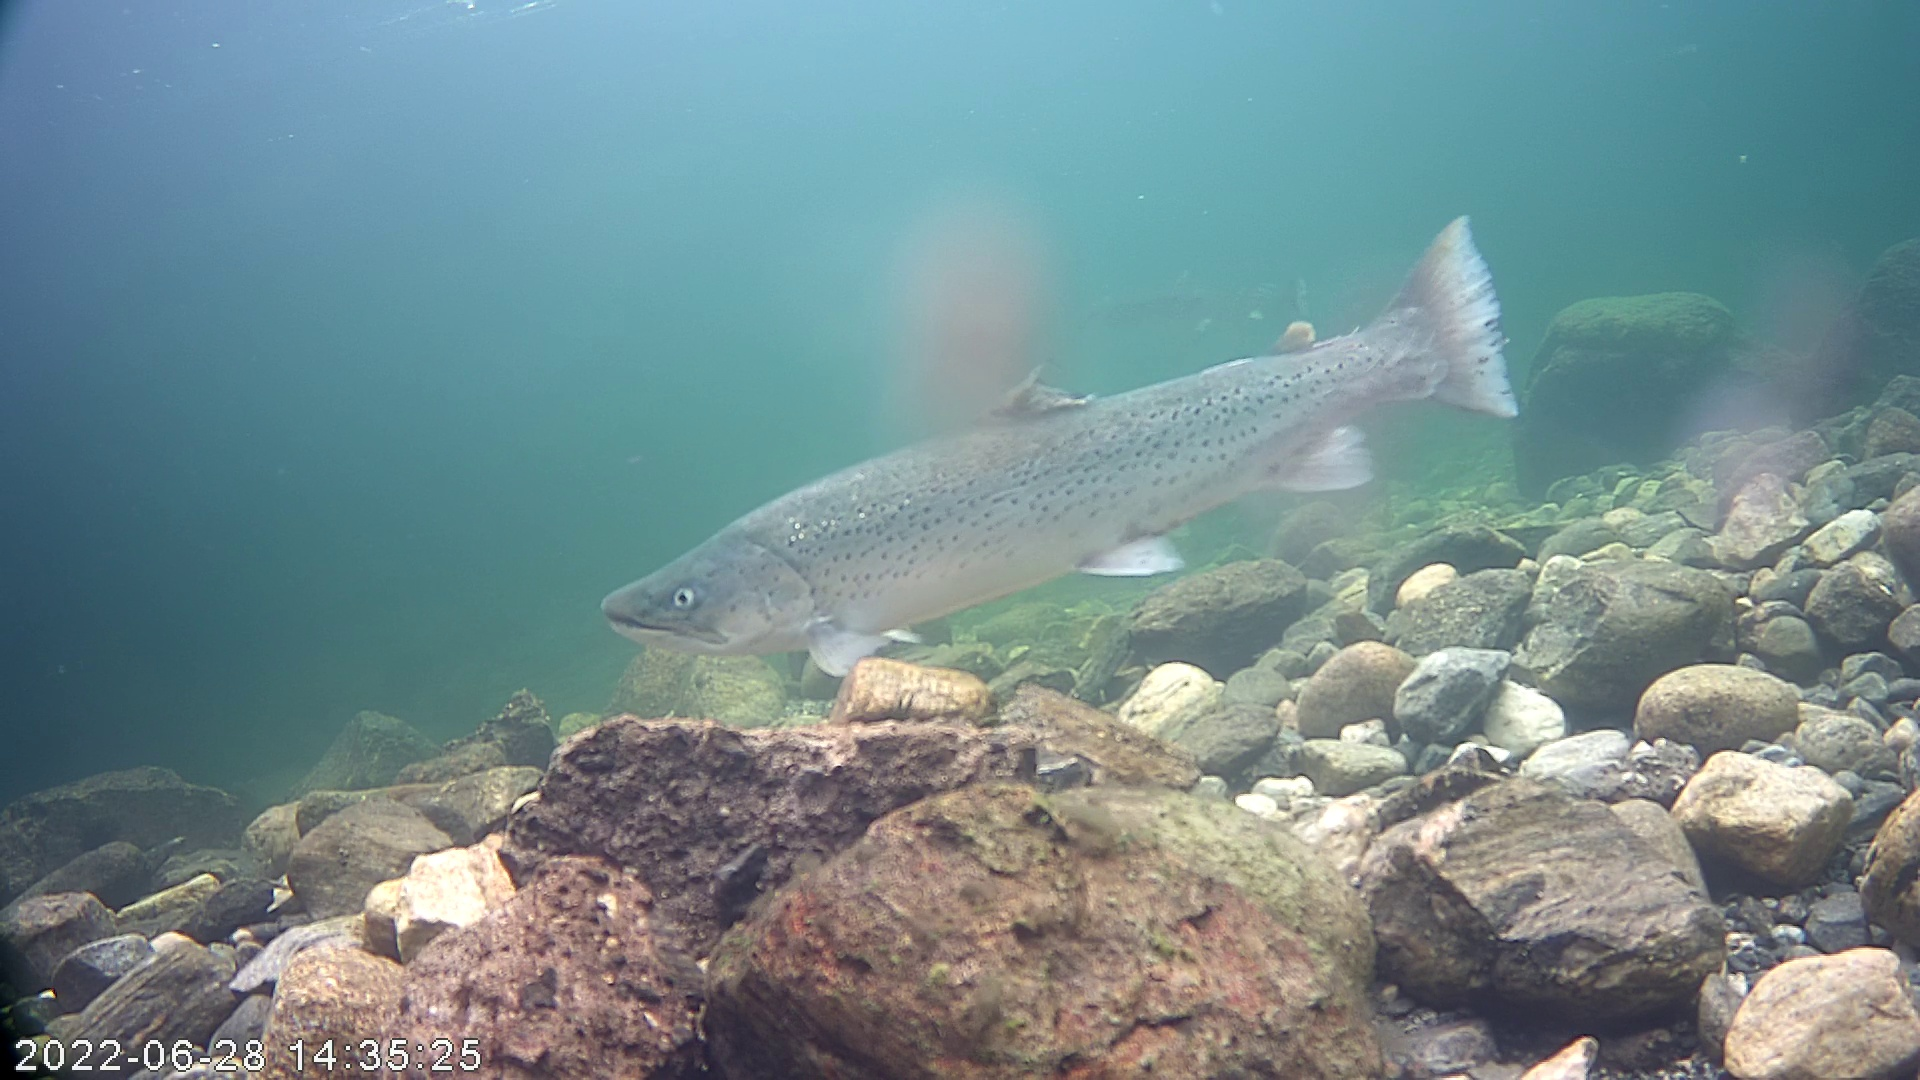salmon: (632, 196, 1547, 666)
